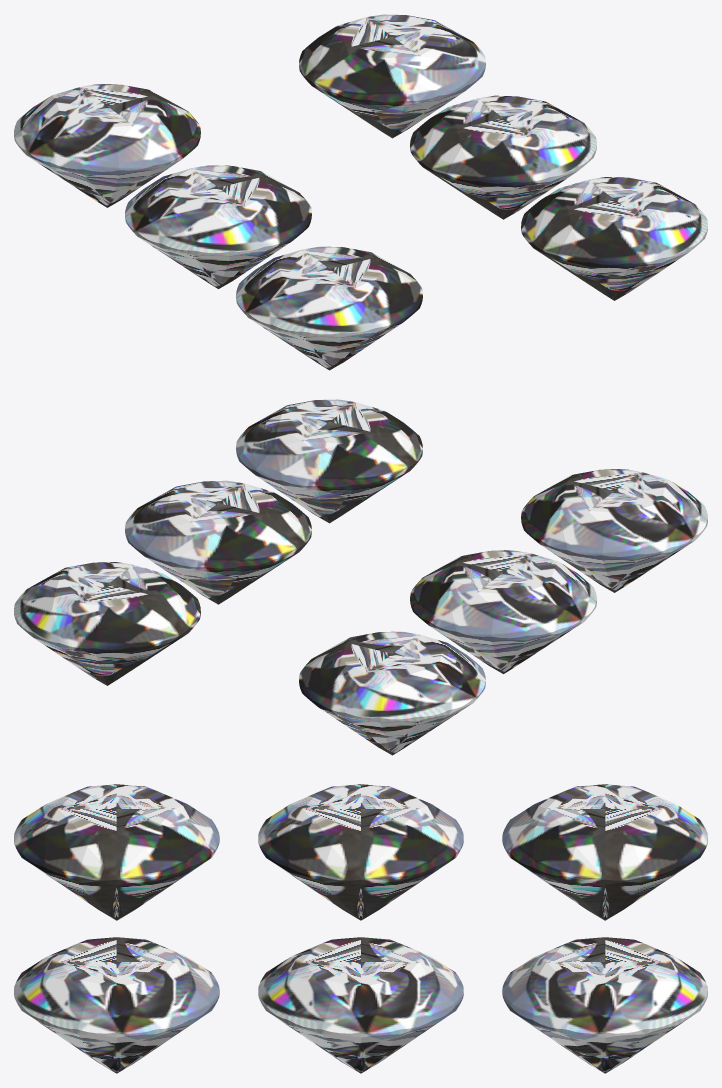
3 renders of one model, top to bottom at view 1: azimuth 30°, elevation 25°; view 2: azimuth 150°, elevation 25°; view 3: azimuth 270°, elevation 25°, orthographic. The views are drawn at different scales.
Parts seen in each view (by area): view 1: Объект_1, Объект_5, Объект_7, Объект_4, Объект_3, Объект_6; view 2: Объект_3, Объект_4, Объект_7, Объект_5, Объект_1, Объект_6; view 3: Объект_6, Объект_7, Объект_1, Объект_3, Объект_4, Объект_5.
Part boxes in pixels (x1,y1,x2,y2): Объект_1: [14, 84, 200, 207]; Объект_5: [521, 177, 707, 300]; Объект_7: [125, 165, 311, 288]; Объект_4: [299, 14, 485, 138]; Объект_3: [236, 246, 422, 370]; Объект_6: [410, 95, 596, 219]; Объект_3: [521, 469, 707, 592]; Объект_4: [14, 562, 200, 685]; Объект_7: [410, 550, 596, 673]; Объект_5: [236, 399, 422, 523]; Объект_1: [299, 631, 485, 755]; Объект_6: [125, 480, 311, 604]; Объект_6: [258, 937, 463, 1073]; Объект_7: [258, 784, 463, 920]; Объект_1: [502, 784, 707, 920]; Объект_3: [14, 784, 219, 920]; Объект_4: [502, 937, 707, 1073]; Объект_5: [14, 937, 219, 1073].
Bounding box in the file's own units: 14.47 × 17.69 × 3.14.
1 material, 1 textured.
